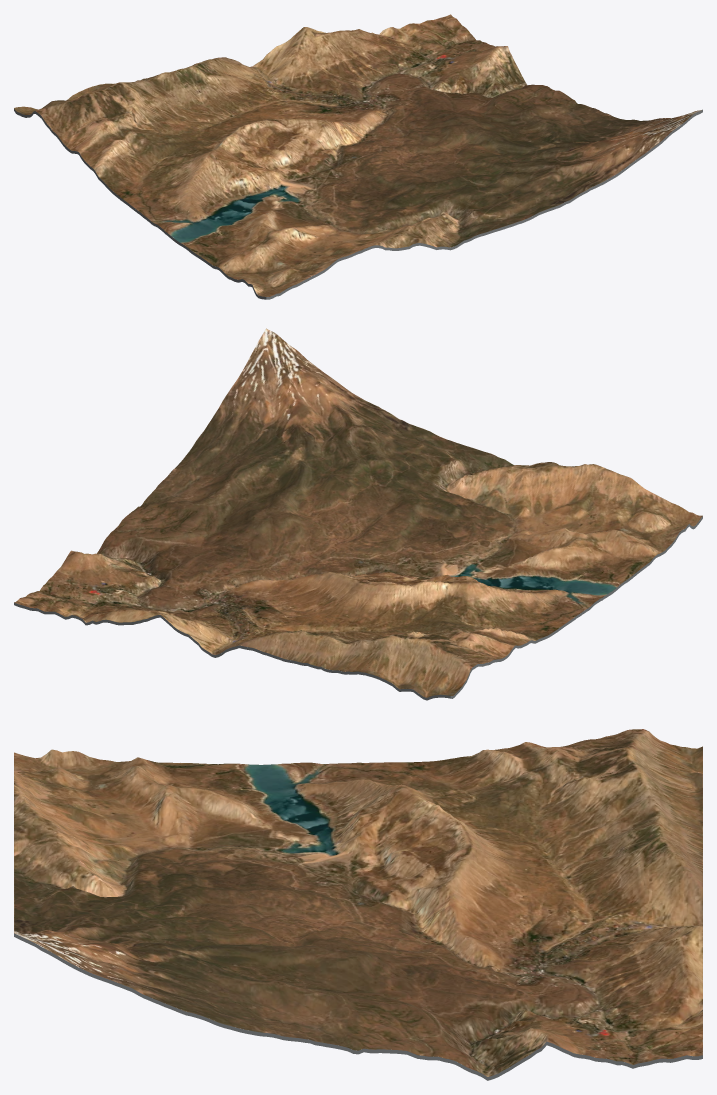
3 renders of one model, top to bottom at view 1: azimuth 30°, elevation 25°; view 2: azimuth 150°, elevation 25°; view 3: azimuth 270°, elevation 25°, orthographic. The views are drawn at different scales.
Visible parts, largest first — view 1: terrain, skirt; view 2: terrain, skirt; view 3: terrain, skirt.
Boxes of the visible parts, x1,y1,x2,y2 form: terrain: (14,14,701,296); skirt: (14,108,702,299); terrain: (14,328,702,697); skirt: (14,516,702,700); terrain: (14,729,702,1076); skirt: (14,933,702,1080).
Bounding box in the file's own units: 15000 × 3551 × 15000.
Materials: 1 (1 with a texture image).
